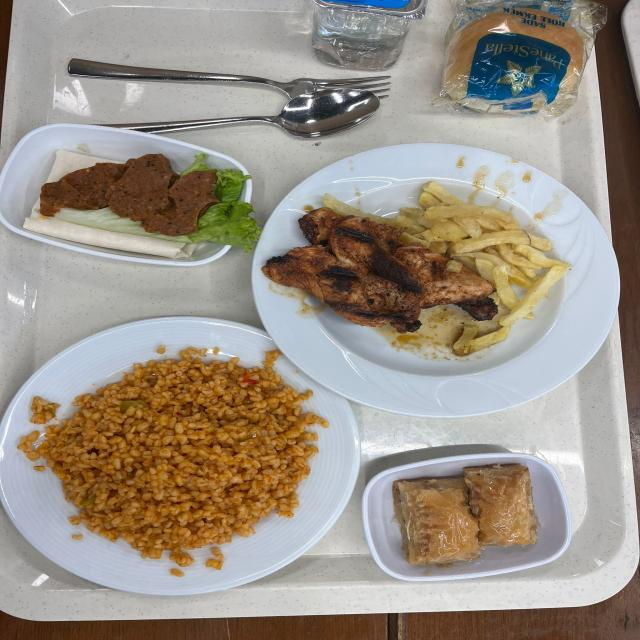ana_yemek: (0, 329, 352, 590), (264, 143, 592, 379)
yan_yemek: (0, 123, 255, 263), (363, 450, 563, 582)
